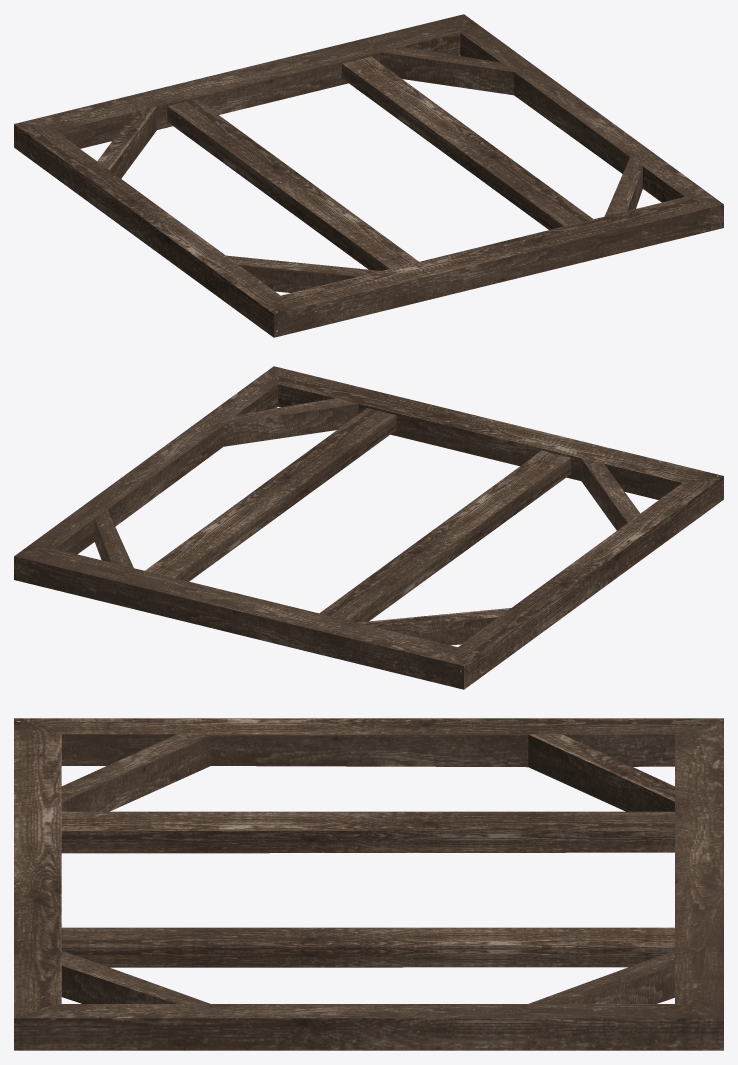
Rendered from Floor_Plan.dae.
3 renders of one model, top to bottom at view 1: azimuth 30°, elevation 25°; view 2: azimuth 150°, elevation 25°; view 3: azimuth 270°, elevation 25°, orthographic. The views are drawn at different scales.
Visible parts, largest first — view 1: Plan; view 2: Plan; view 3: Plan.
Part boxes in pixels (x1=…): Plan: x1=14, y1=14, x2=723, y2=337; Plan: x1=14, y1=366, x2=723, y2=689; Plan: x1=14, y1=718, x2=723, y2=1050.
Bounding box in the file's own units: 4 × 0.2032 × 4.
Materials: 1 (1 with a texture image).
